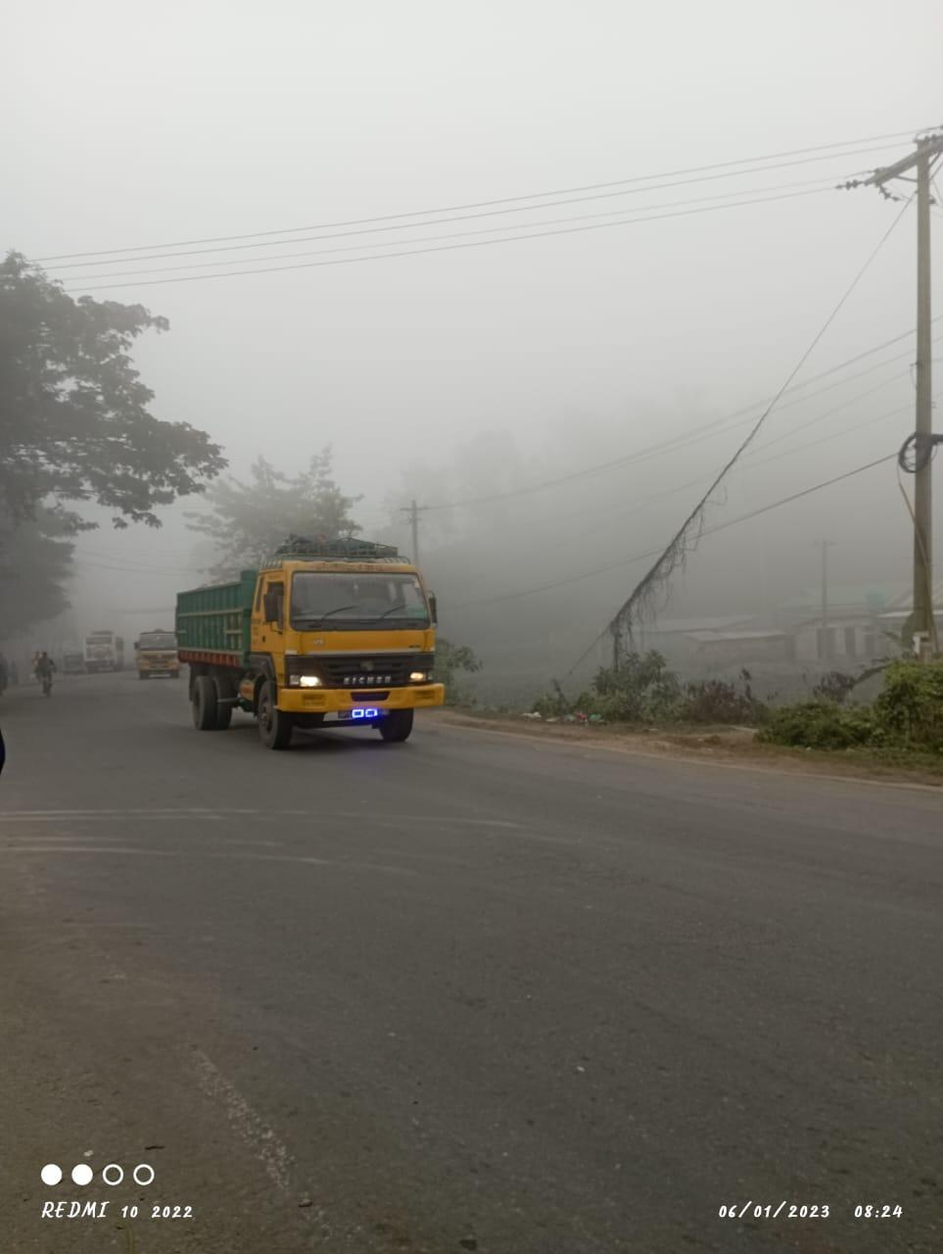Bus: (75, 626, 123, 675)
Truck: (172, 526, 454, 763), (127, 622, 188, 683)
